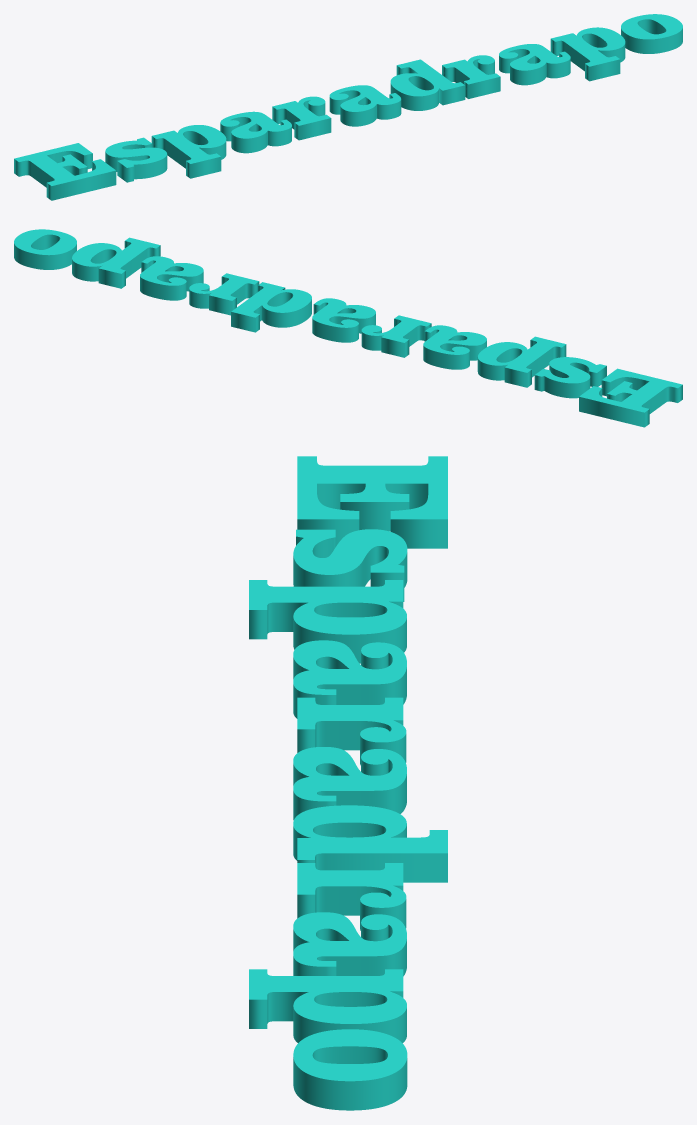
Rendered from TapeTxt.fbx.
The picture shows the model from 3 angles, top to bottom: view 1: azimuth 30°, elevation 25°; view 2: azimuth 150°, elevation 25°; view 3: azimuth 270°, elevation 25°; orthographic projection. The views are drawn at different scales.
Parts seen in each view (by area): view 1: Text; view 2: Text; view 3: Text.
Boxes of the visible parts, x1=… form: Text: x1=14, y1=14, x2=682, y2=200; Text: x1=14, y1=229, x2=682, y2=427; Text: x1=249, y1=456, x2=447, y2=1110.
Size of the model in its own units: 646 by 14.12 by 86.93.
